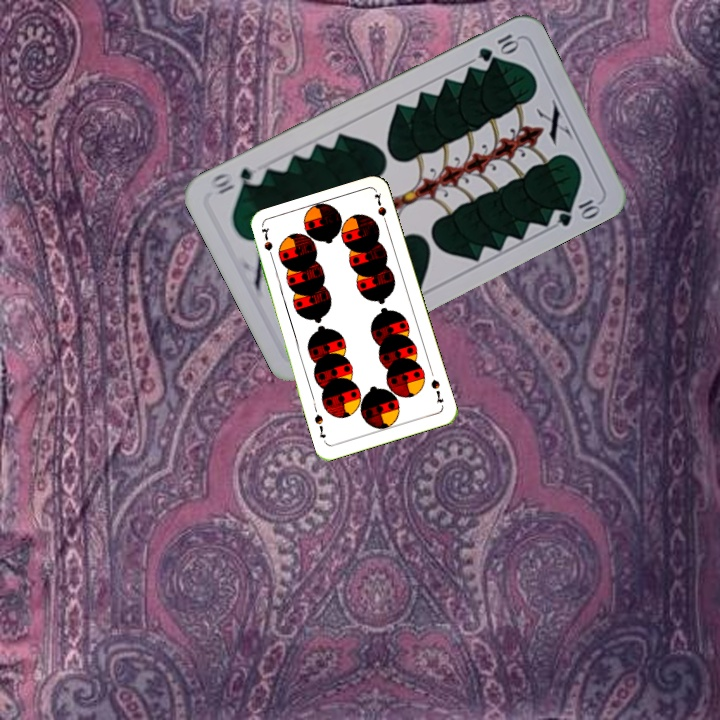G10: (474, 29, 522, 64)
S7: (257, 224, 276, 264), (427, 375, 446, 406)
